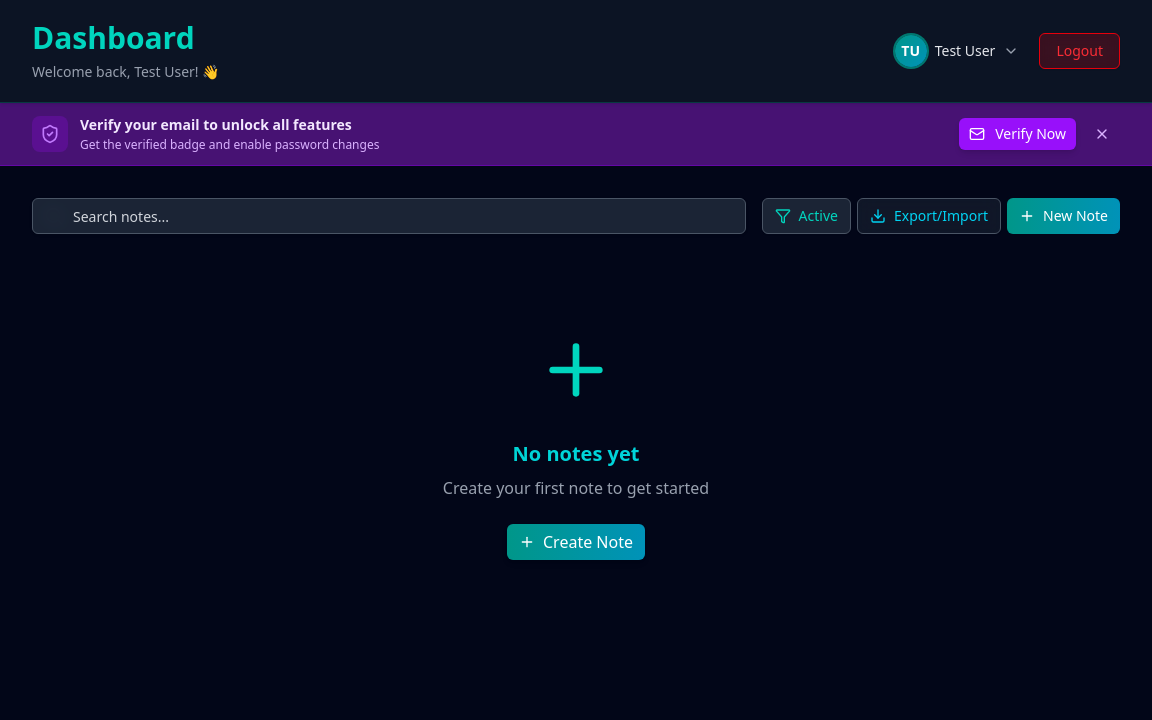
Test: DashboardPage › displays empty state with search query
// Search for something that won't match
In the field with placeholder "Search notes...": (389, 216) left=32, top=198, right=746, bottom=234, type "nonexistent"
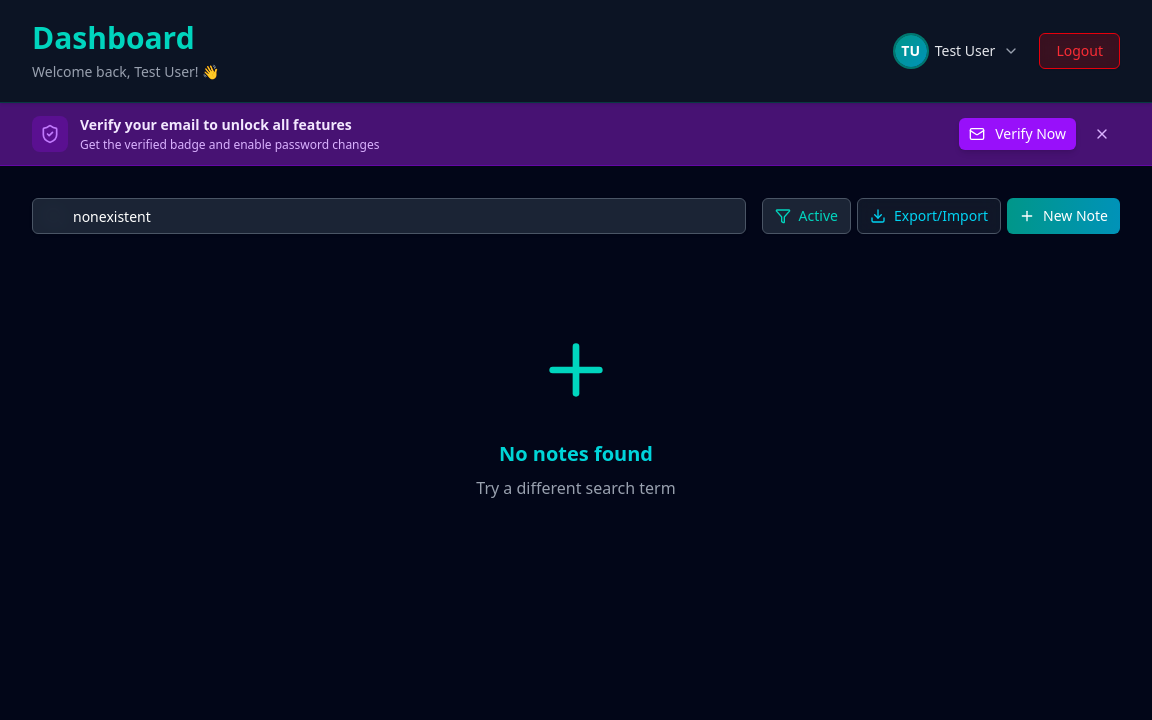
Check: the heading "No notes found" is shown, box left=32, top=440, right=1120, bottom=468
